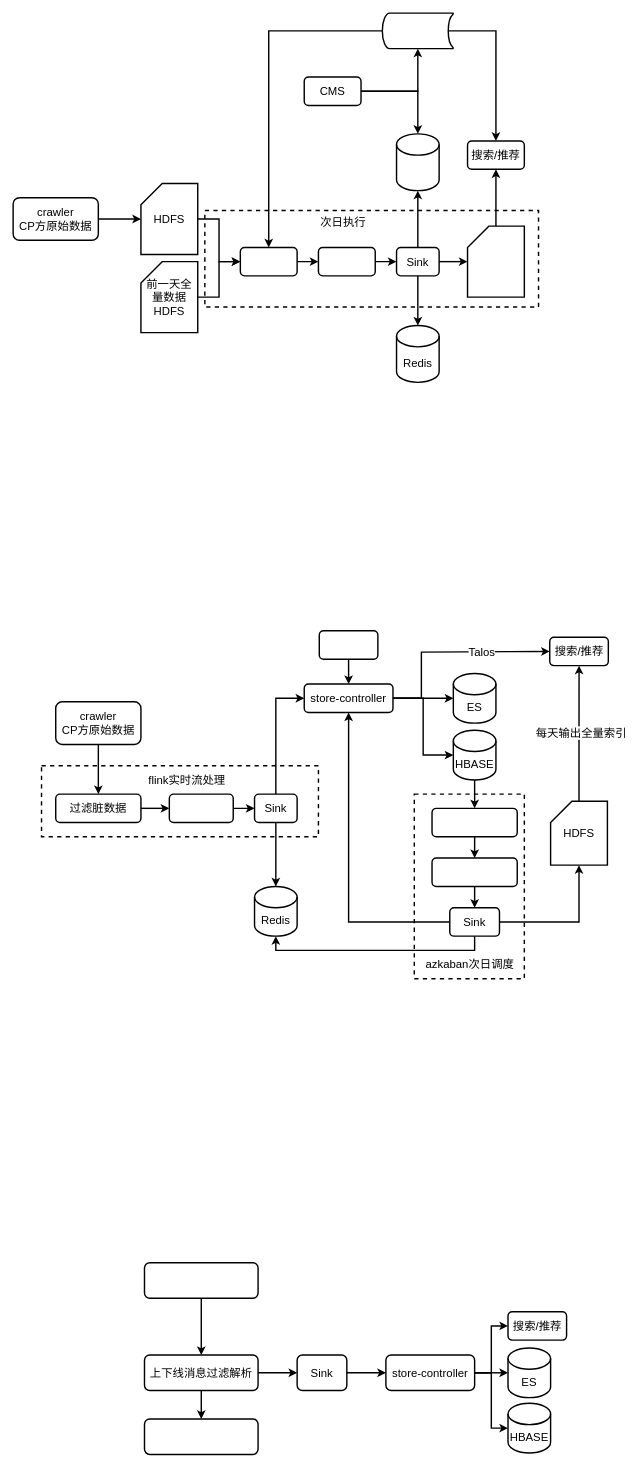
Some shapes in this 638 by 1467 pixel diagram are drawn without their labels. The centre of each missing label's shape, as x and y in pixels:
"CP方资源上下线变更" goes at pixel 200 1280.
"Merge" goes at pixel 268 261.
"MySQL" goes at pixel 417 162.
"今天全量数据 HDFS" goes at pixel 495 261.
"增量队列" goes at pixel 417 30.
"实时上下线日志收集" goes at pixel 200 1436.
"异常数据纠正" goes at pixel 474 872.
"新CMS" goes at pixel 348 645.
"清洗整合" goes at pixel 346 261.
"清洗融合" goes at pixel 201 808.
"过期数据下线" goes at pixel 474 822.
